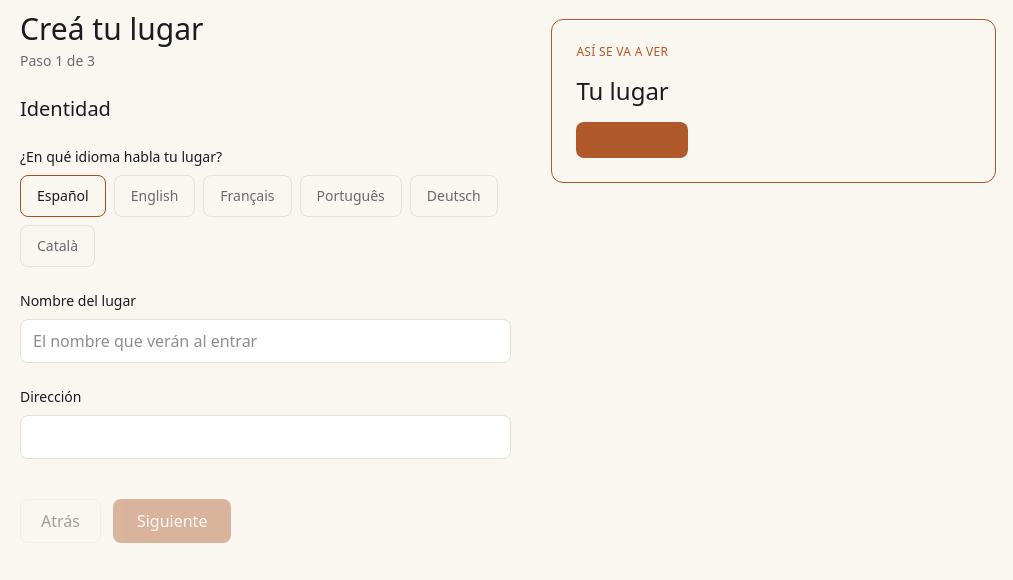
PlaceWizard — shell + Paso 1 (S8a) › avisa cuando el formato del slug es inválido
Type "ab" into the field labelled "Dirección" at x=266, y=437, box [20,415,511,459]
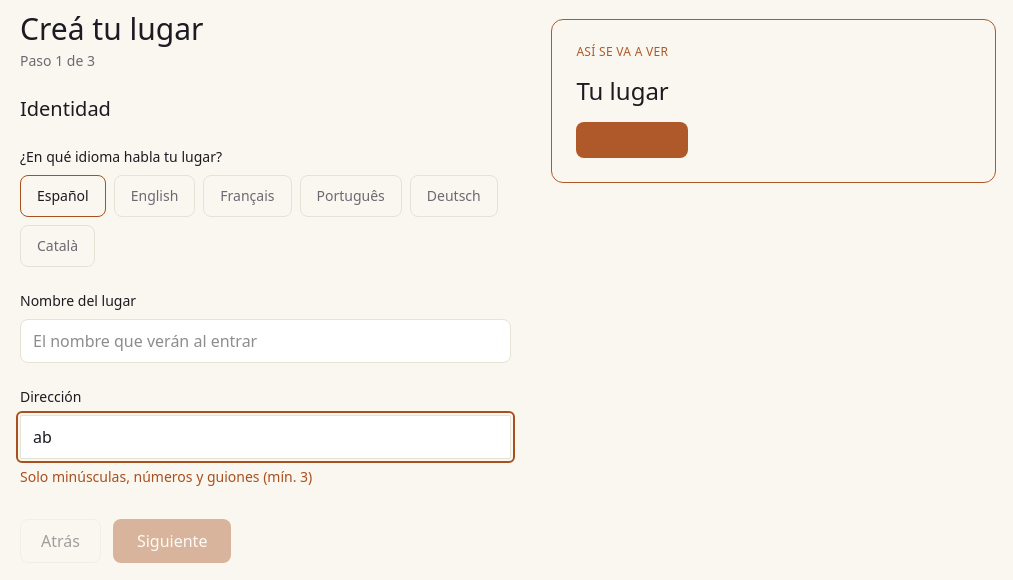
Result: the text "Solo minúsculas, números y guiones (mín. 3)" is shown at [20,467,312,486]
